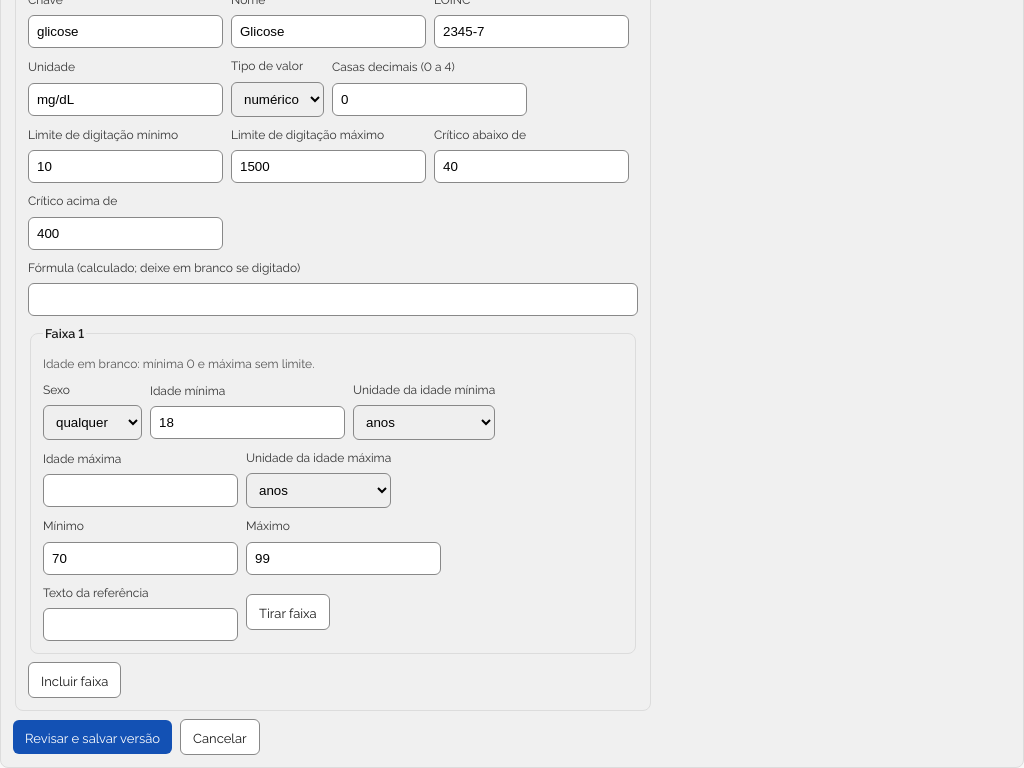
Test: VersionForm › 409 conflict (vigente mudou, C-E44): frase própria e a tela relê
(page scrolled)
Click the button "Revisar e salvar versão": (93, 737) x1=13 y1=720 x2=172 y2=754
(page scrolled)
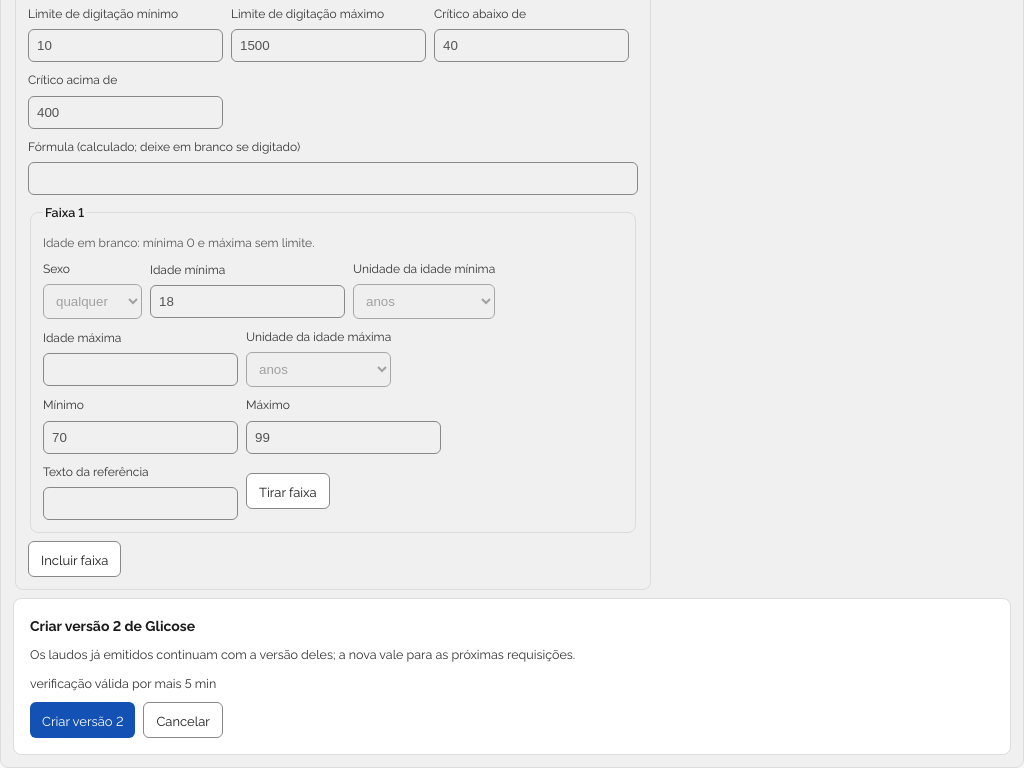
Click the button "Criar versão 2": (83, 720) x1=30 y1=702 x2=136 y2=738
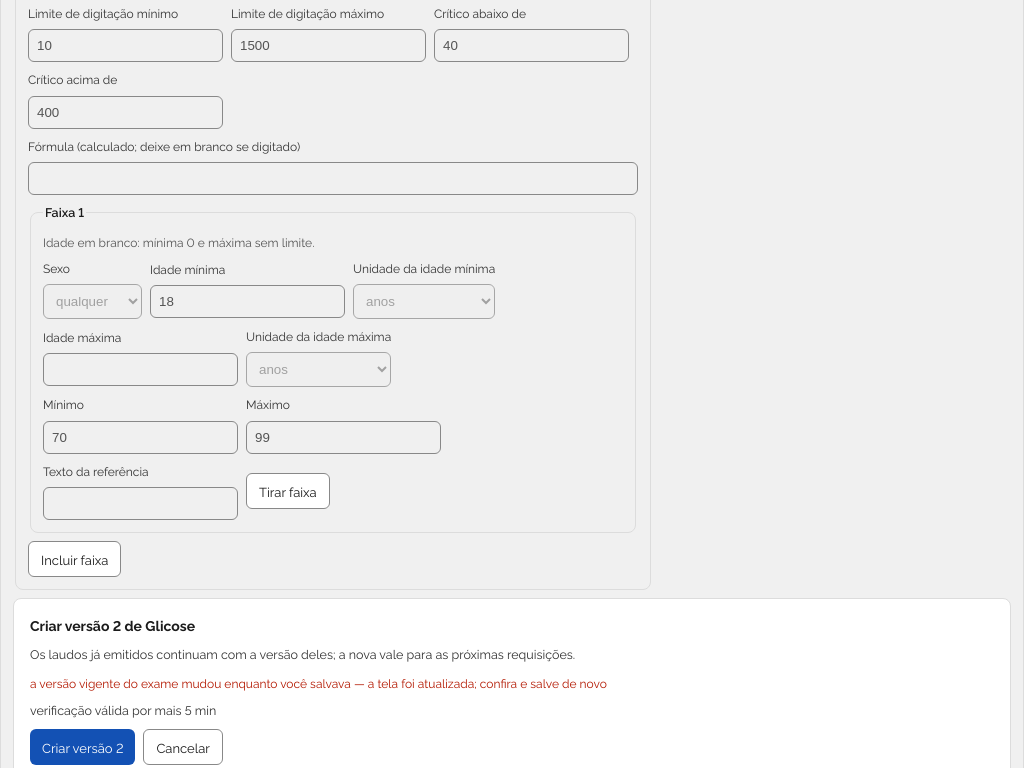
Now the text "a versão vigente do exame mudou enquanto você salvava" is shown, box x1=30 y1=674 x2=607 y2=690
